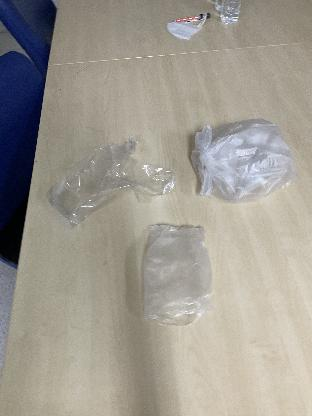Others: (50, 138, 166, 224), (185, 120, 295, 204), (138, 218, 216, 336)
